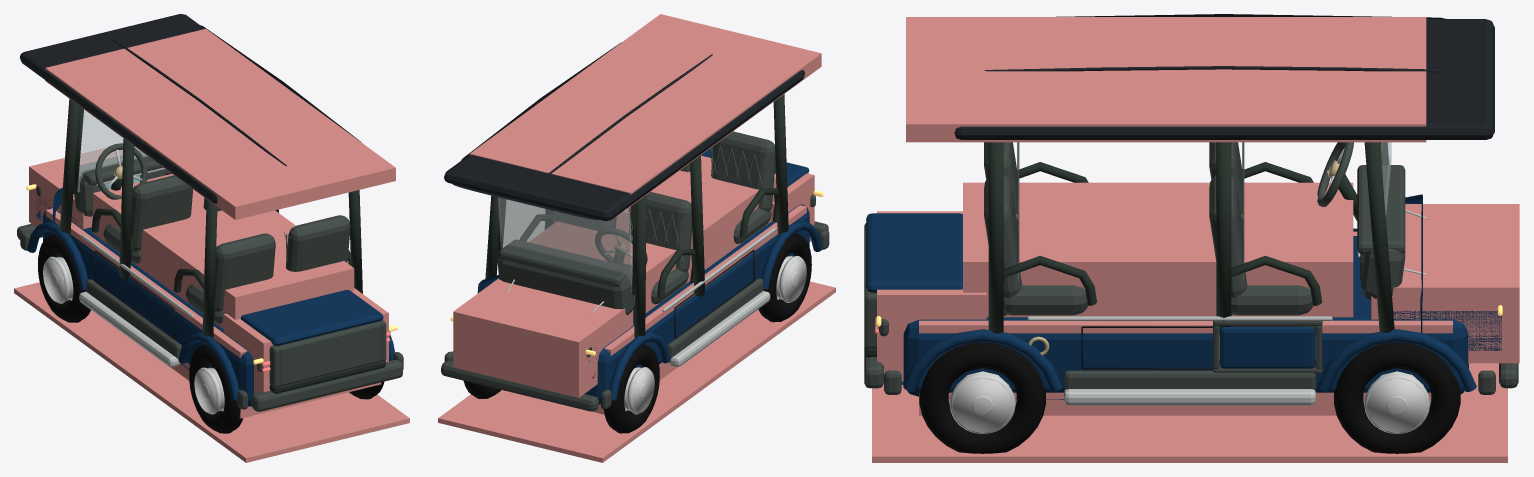
The model's file is golf_cart_high_end.glb.
3 renders of one model, left to right at view 1: azimuth 30°, elevation 25°; view 2: azimuth 150°, elevation 25°; view 3: azimuth 270°, elevation 25°, orthographic. The views are drawn at different scales.
Visible parts, largest first — view 1: COL_Roof, COL_VEHICLE_FOOTPRINT, COL_SeatArea, LOD1_Roof, LOD2_BodySilhouette, StorageLid_Rear_Panel, RearStorageBox_Wall_Rear, Seat_Passenger_Rear_Left_Back, Seat_Passenger_Rear_Right_Back, Seat_Driver_Back, COL_Chassis, RearBumper (+30 smaller); view 2: COL_Roof, COL_FrontBody, COL_VEHICLE_FOOTPRINT, LOD1_Roof, COL_SeatArea, Windshield, LOD1_Windshield, LOD2_BodySilhouette, Dashboard, Seat_Passenger_Rear_Left_Back, DashboardTop, Seat_Driver_Back (+27 smaller); view 3: COL_Roof, COL_SeatArea, COL_VEHICLE_FOOTPRINT, COL_FrontBody, LOD1_Roof, LOD2_BodySilhouette, COL_Chassis, StorageLid_Rear_Panel, LOD0_Wheel_FR_TireAssembly, LOD0_Wheel_RR_TireAssembly, COL_RearBody, SideSkirt_Center_R (+31 smaller).
Boxes of the visible parts, box(x1,y1,x2,y2) form: COL_Roof: box(45, 28, 395, 219); COL_VEHICLE_FOOTPRINT: box(14, 282, 409, 462); COL_SeatArea: box(93, 174, 354, 328); LOD1_Roof: box(19, 14, 217, 203); LOD2_BodySilhouette: box(43, 207, 253, 406); StorageLid_Rear_Panel: box(240, 290, 383, 345); RearStorageBox_Wall_Rear: box(277, 322, 381, 385); Seat_Passenger_Rear_Left_Back: box(214, 233, 275, 311); Seat_Passenger_Rear_Right_Back: box(285, 215, 350, 271); Seat_Driver_Back: box(131, 175, 192, 251); COL_Chassis: box(45, 208, 381, 418); RearBumper: box(251, 359, 402, 411); COL_Roof: box(469, 14, 821, 206); COL_FrontBody: box(453, 278, 633, 397); COL_VEHICLE_FOOTPRINT: box(438, 281, 835, 462); LOD1_Roof: box(444, 70, 805, 220); COL_SeatArea: box(530, 155, 776, 313); Windshield: box(499, 198, 632, 291); LOD1_Windshield: box(498, 197, 632, 286); LOD2_BodySilhouette: box(585, 204, 809, 404); Dashboard: box(497, 256, 634, 315); Seat_Passenger_Rear_Left_Back: box(711, 131, 775, 211); DashboardTop: box(499, 240, 631, 286); Seat_Driver_Back: box(630, 192, 692, 272); COL_Roof: box(906, 17, 1426, 142); COL_SeatArea: box(963, 182, 1353, 317); COL_VEHICLE_FOOTPRINT: box(872, 363, 1507, 462); COL_FrontBody: box(1371, 204, 1519, 363); LOD1_Roof: box(954, 19, 1494, 139); LOD2_BodySilhouette: box(903, 236, 1468, 396); COL_Chassis: box(919, 231, 1452, 415); StorageLid_Rear_Panel: box(866, 213, 962, 292); LOD0_Wheel_FR_TireAssembly: box(1334, 342, 1460, 453); LOD0_Wheel_RR_TireAssembly: box(919, 342, 1045, 453); COL_RearBody: box(877, 211, 986, 381); SideSkirt_Center_R: box(1064, 370, 1315, 390).
Size of what is drawn, in the model's own units: 1.4 by 1.9 by 3.29.
